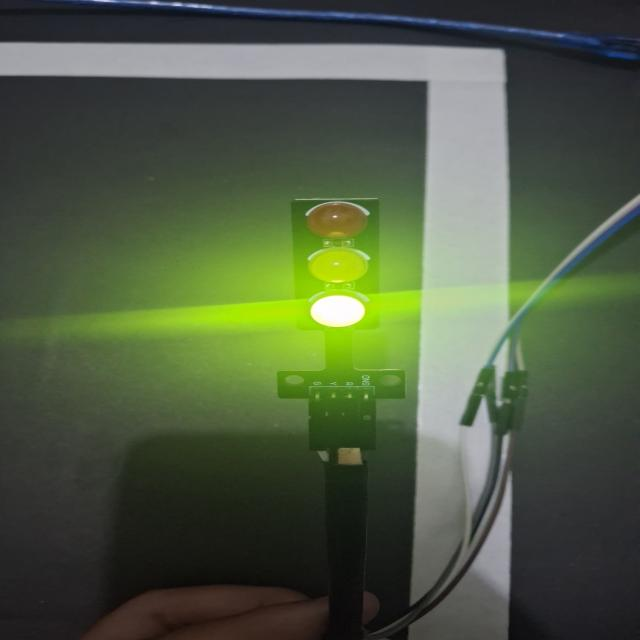Lampu Hijau: (294, 198, 382, 332)
